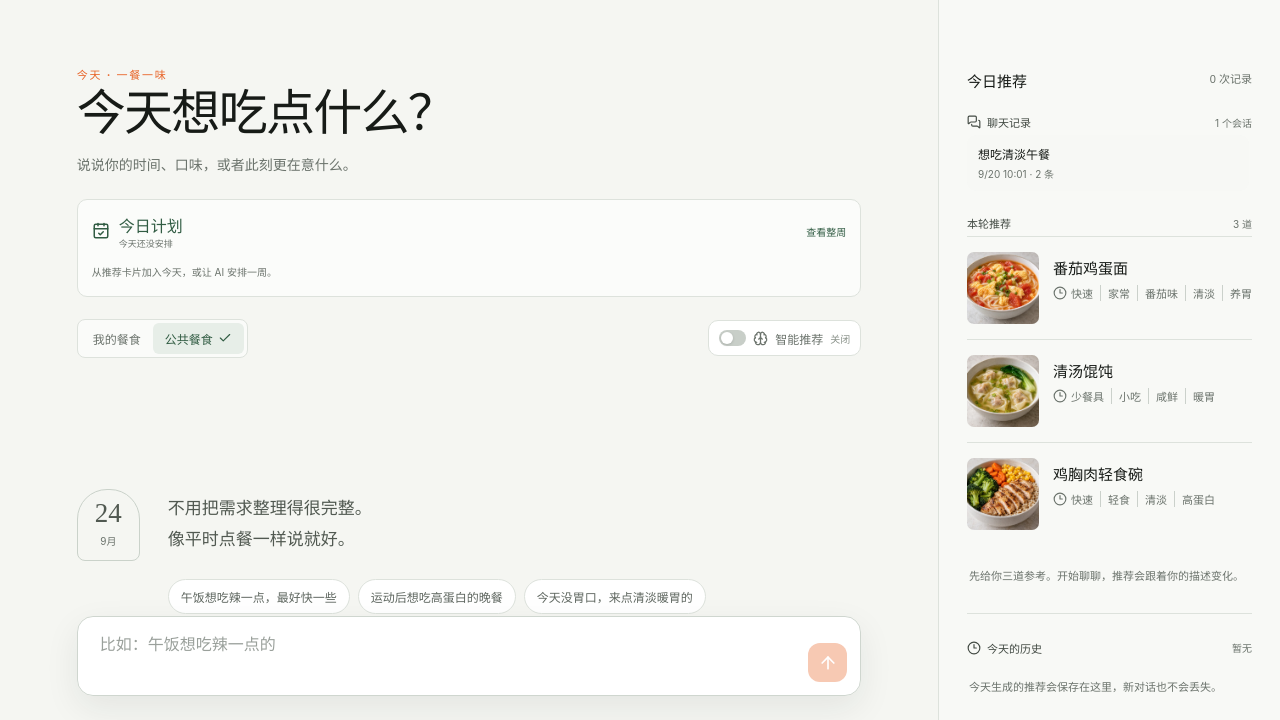
Test case: 聊天记录可以恢复完整用户和助手消息
Click the button "想吃清淡午餐 9/20 10:01 · 2 条".
click(1014, 154)  # box [967,135,1249,191]
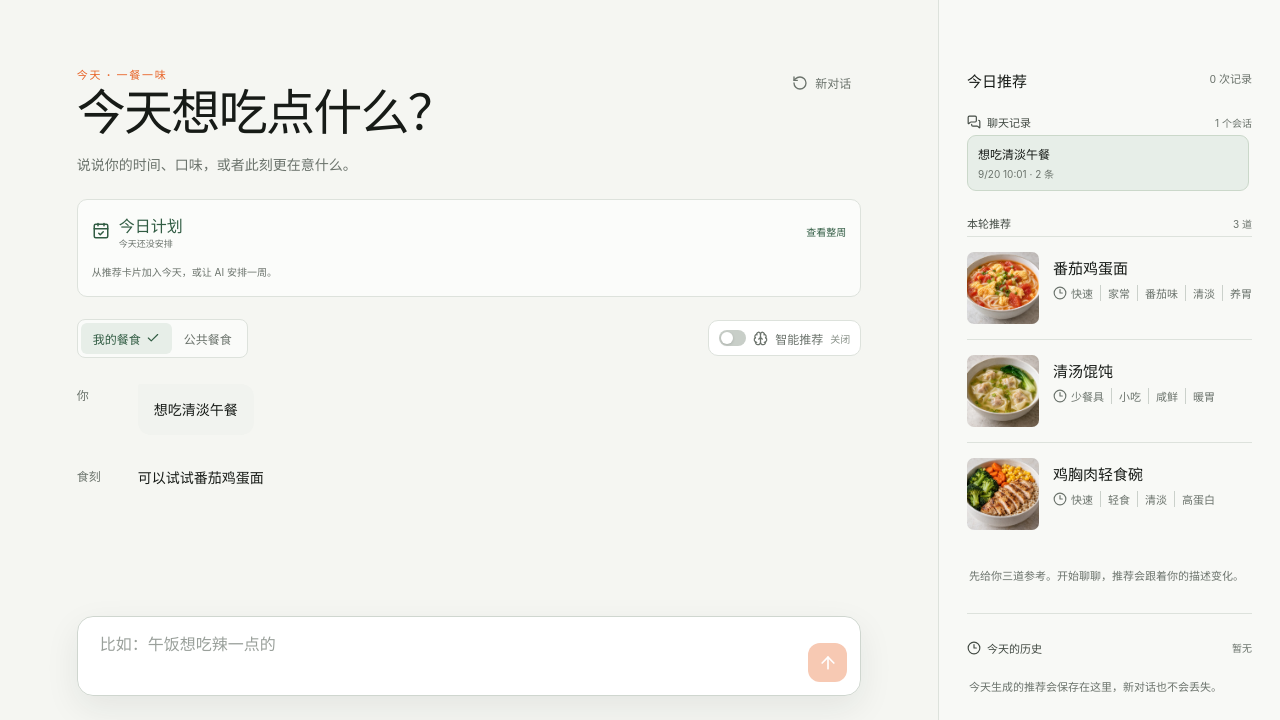
Result: the text "可以试试番茄鸡蛋面" is shown at [138,469,264,486]
